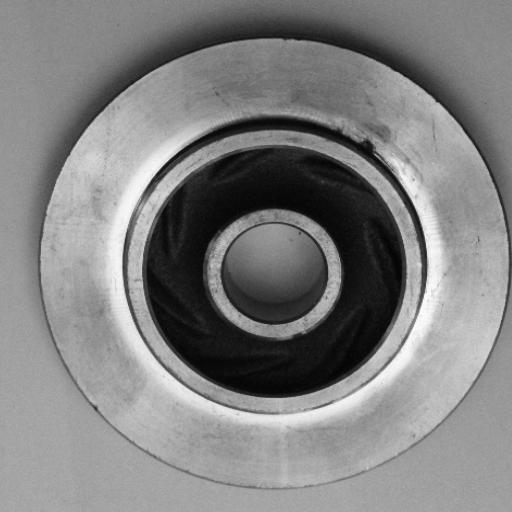crack: (354, 128, 384, 163), (330, 115, 354, 147)
unpolished_casting: (34, 36, 512, 490)
